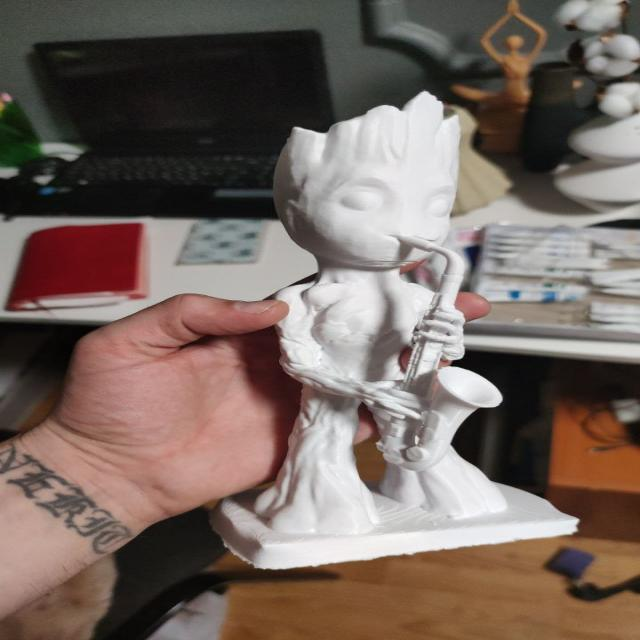Without deffect: (158, 84, 620, 566)
